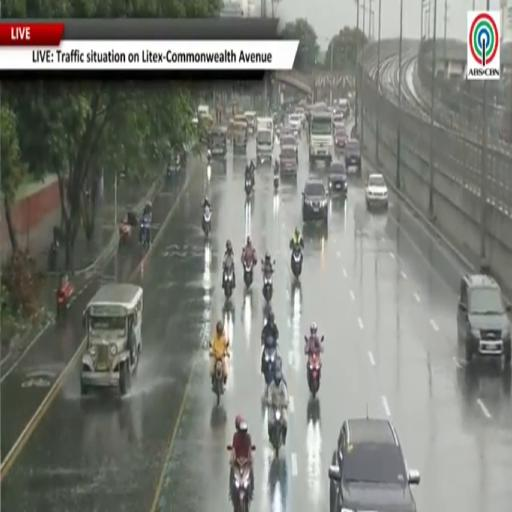car: (329, 419, 420, 511), (457, 275, 511, 364), (302, 179, 328, 227), (365, 173, 388, 210), (328, 163, 347, 196), (345, 135, 361, 174), (280, 133, 298, 163), (334, 125, 347, 151)
jeepney: (81, 284, 142, 395), (256, 118, 274, 164), (279, 145, 298, 177), (280, 132, 298, 162), (211, 127, 227, 156), (233, 121, 247, 152), (200, 116, 213, 143), (244, 111, 257, 133), (234, 115, 248, 130), (228, 118, 234, 139)
motorcycle: (231, 458, 251, 511), (307, 352, 321, 398), (270, 408, 282, 458), (213, 360, 224, 406), (264, 346, 276, 386), (291, 248, 303, 278), (223, 267, 233, 299), (48, 240, 58, 271), (262, 274, 272, 302), (202, 206, 211, 236), (141, 221, 150, 249), (244, 262, 253, 287), (245, 176, 252, 197), (274, 174, 279, 191), (207, 164, 211, 181)
tricycle: (56, 274, 74, 316), (119, 212, 137, 246)
truck: (309, 110, 333, 165), (256, 118, 275, 165), (198, 105, 209, 118)
